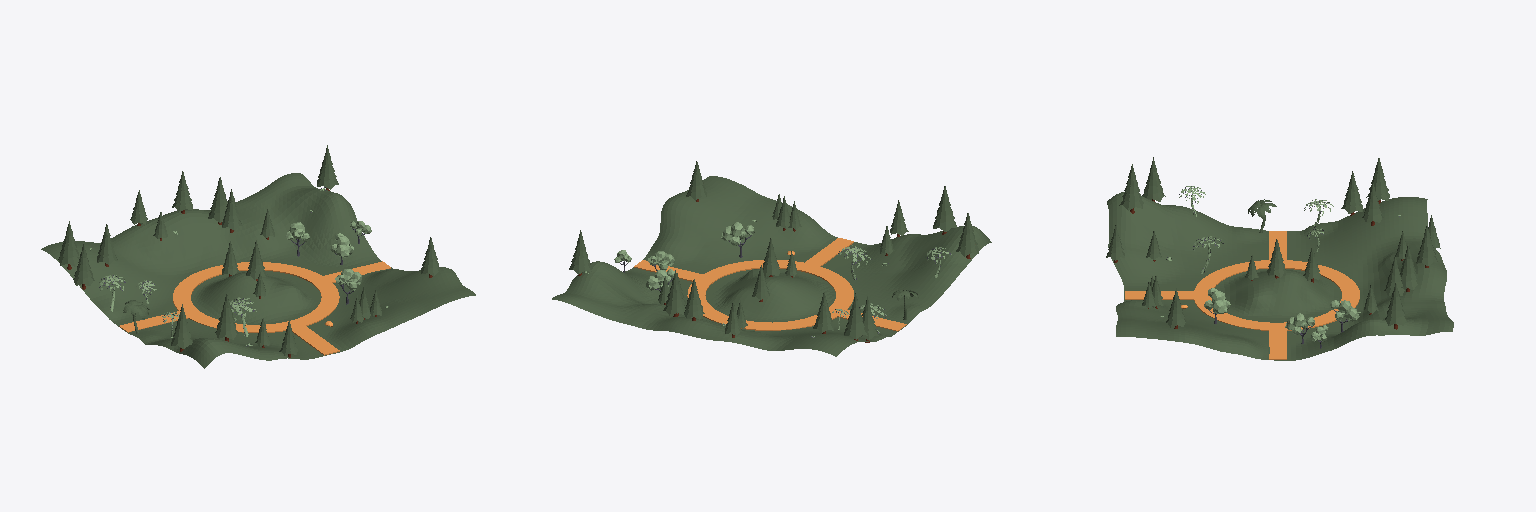
The picture shows the model from 3 angles: view 1: azimuth 30°, elevation 25°; view 2: azimuth 150°, elevation 25°; view 3: azimuth 270°, elevation 25°; orthographic projection.
Visible parts, largest first — view 1: beach_area, Cube.003, tree.024; view 2: beach_area, Cube.003, tree.024, tree.019; view 3: beach_area, Cube.003, tree.024.
Part boxes in pixels (left/top/right/bottom): beach_area: left=41, top=173, right=475, bottom=368; Cube.003: left=119, top=261, right=390, bottom=355; tree.024: left=215, top=294, right=238, bottom=339; beach_area: left=552, top=176, right=991, bottom=356; Cube.003: left=634, top=238, right=906, bottom=331; tree.024: left=933, top=186, right=956, bottom=231; tree.019: left=844, top=293, right=867, bottom=339; beach_area: left=1107, top=192, right=1453, bottom=360; Cube.003: left=1125, top=231, right=1359, bottom=359; tree.024: left=1119, top=164, right=1143, bottom=210.
Bounding box in the file's own units: 112 × 30.68 × 114.
4 materials, 4 textured.